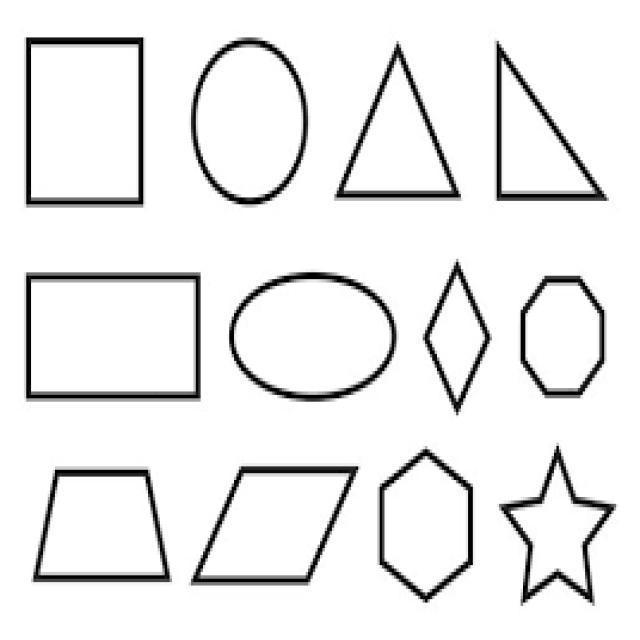circle: (230, 258, 410, 406), (180, 33, 330, 209)
square: (10, 22, 172, 227), (3, 260, 212, 406)
triangle: (328, 22, 463, 222), (477, 33, 619, 215)
